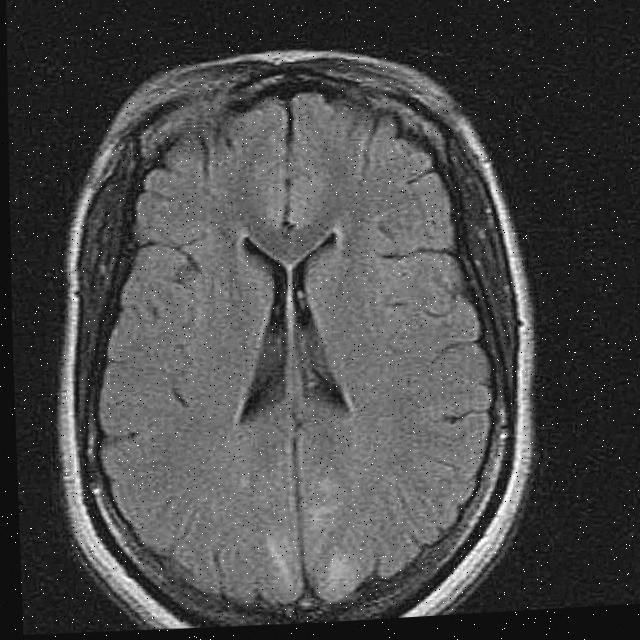NoTumor: (35, 28, 553, 638)
